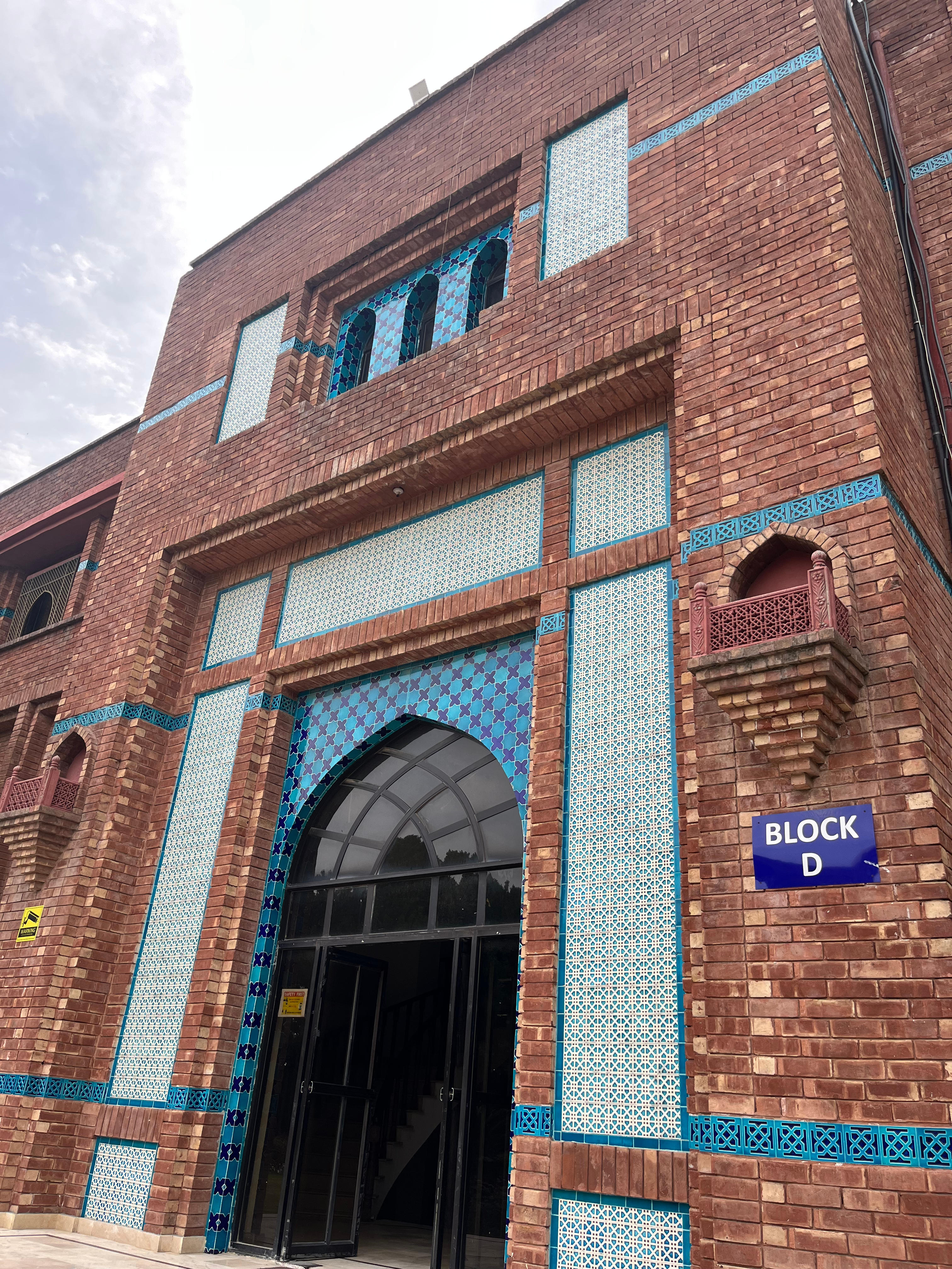Block D: (2, 8, 945, 1269)
